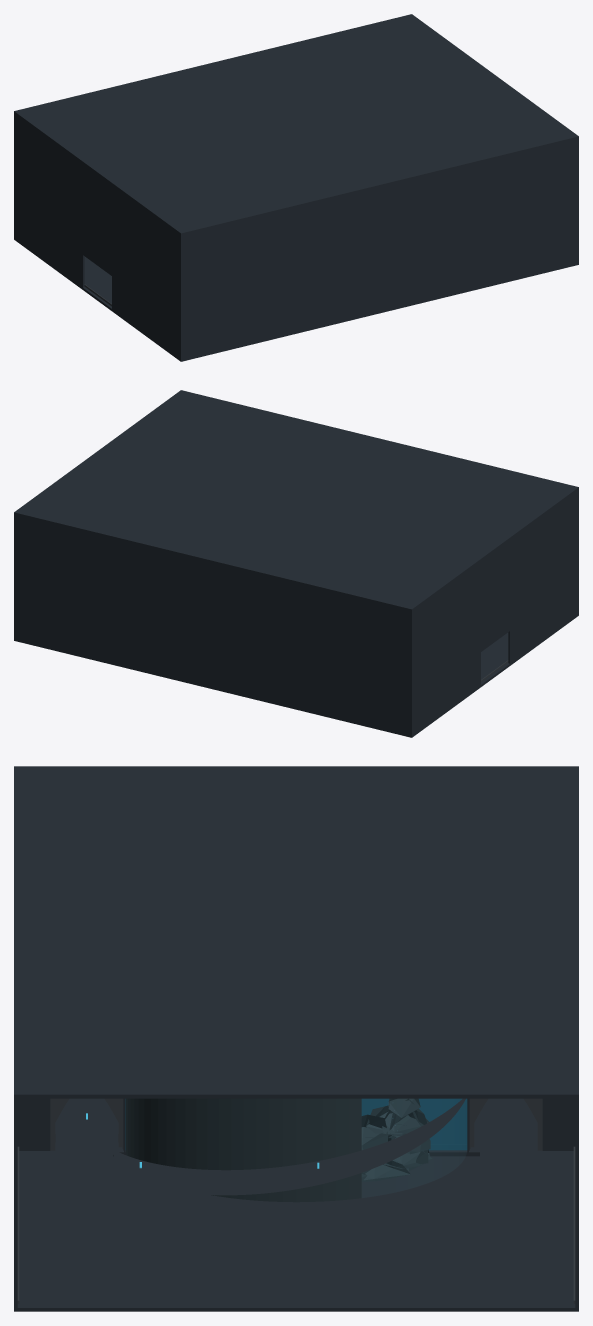
The model's file is aquarium_watatsumi_hall.glb.
3 views of the same model, one above another, from view 1: azimuth 30°, elevation 25°; view 2: azimuth 150°, elevation 25°; view 3: azimuth 270°, elevation 25° (orthographic). The views are drawn at different scales.
Parts seen in each view (by area): view 1: WatatsumiArchitecture; view 2: WatatsumiArchitecture; view 3: WatatsumiArchitecture, WatatsumiRock, WatatsumiGlass, WatatsumiRamp, WatatsumiWater.
Boxes of the visible parts, x1,y1,x2,y2 form: WatatsumiArchitecture: (14, 14, 578, 361); WatatsumiArchitecture: (14, 390, 578, 737); WatatsumiArchitecture: (14, 766, 578, 1311); WatatsumiRock: (126, 1098, 432, 1202); WatatsumiGlass: (362, 1099, 466, 1197); WatatsumiRamp: (17, 1098, 575, 1303); WatatsumiWater: (125, 1098, 467, 1150).
Size of the model in its own units: 66.3 by 20.36 by 48.
